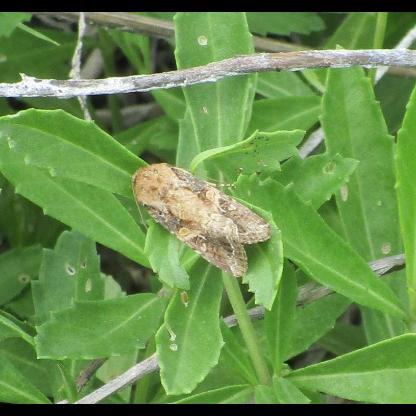Fall Armyworm Moth: (129, 160, 273, 280)
